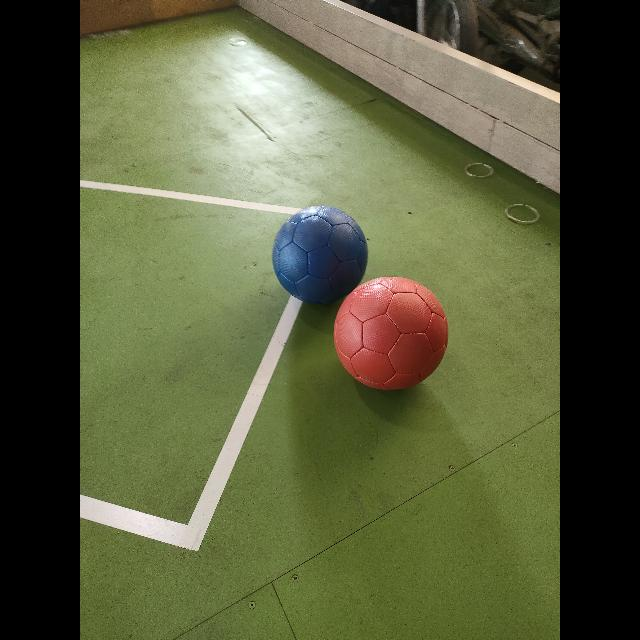B: (272, 206, 368, 304)
R: (334, 277, 448, 389)
